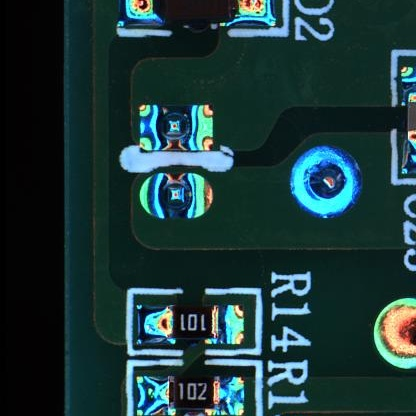spot: (286, 144, 362, 218), (135, 104, 215, 153), (139, 172, 213, 221), (375, 296, 416, 370)
